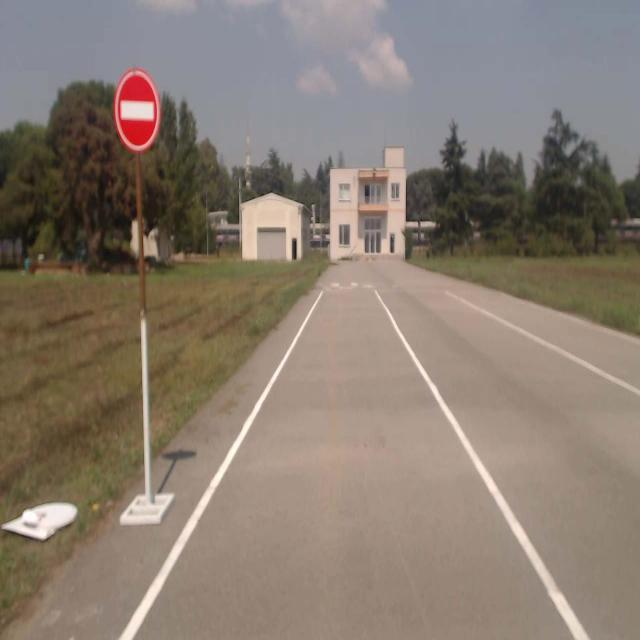girisyok: (117, 75, 158, 146)
